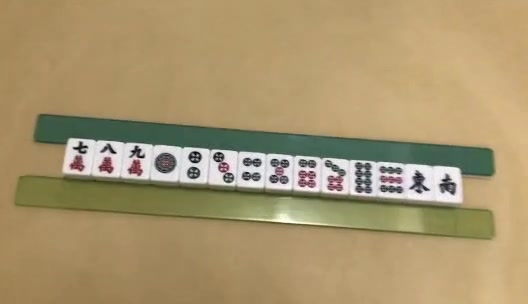1p: (154, 152, 176, 173)
1z: (409, 170, 429, 194)
2p: (188, 152, 202, 180)
2z: (438, 173, 456, 195)
3p: (215, 152, 234, 183)
4p: (242, 158, 264, 182)
5p: (270, 159, 289, 186)
6p: (299, 158, 317, 188)
7m: (70, 141, 89, 172)
7p: (323, 161, 345, 192)
8m: (97, 143, 115, 173)
8p: (354, 162, 373, 195)
9m: (126, 146, 147, 175)
9p: (380, 166, 403, 192)
